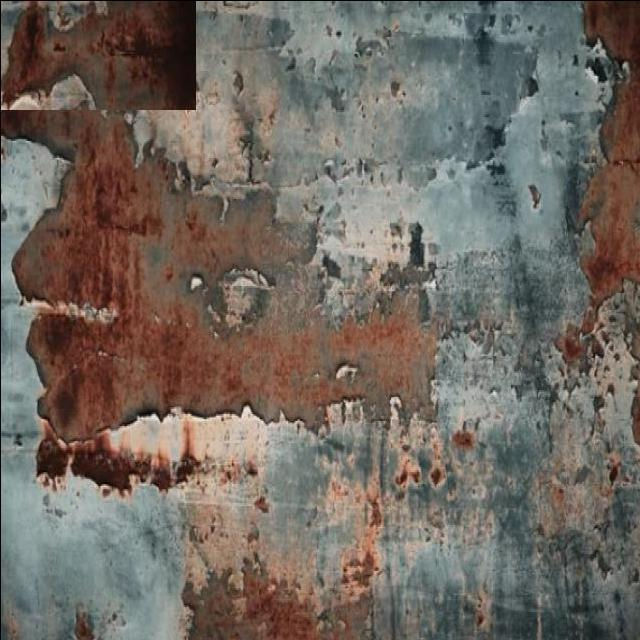Pitting Corrosion: (0, 0, 436, 496), (184, 481, 382, 639), (555, 0, 639, 369), (394, 444, 446, 498), (450, 425, 475, 449), (75, 611, 95, 639), (609, 453, 620, 486), (254, 491, 269, 513), (0, 198, 4, 222)
